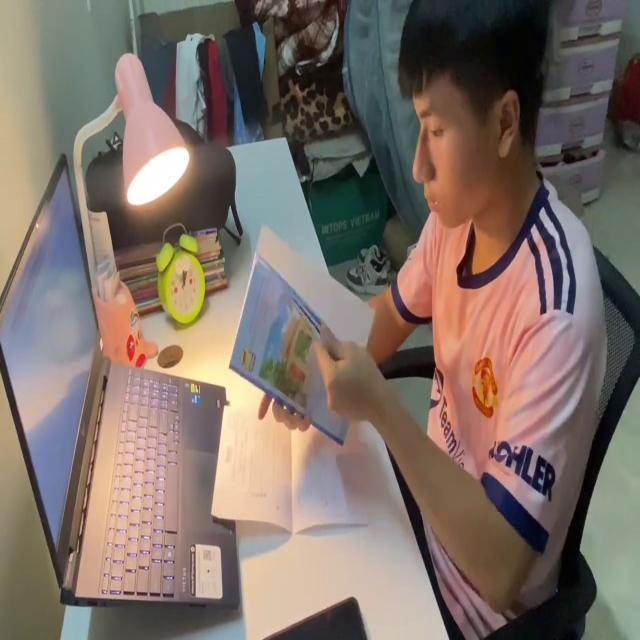book: (214, 227, 378, 522)
laptop: (1, 152, 242, 614)
phone: (256, 594, 346, 640)
student: (319, 0, 603, 629)
